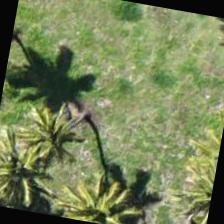Kelapa_Sawit: (4, 80, 108, 184), (52, 154, 152, 223), (0, 114, 67, 216)
